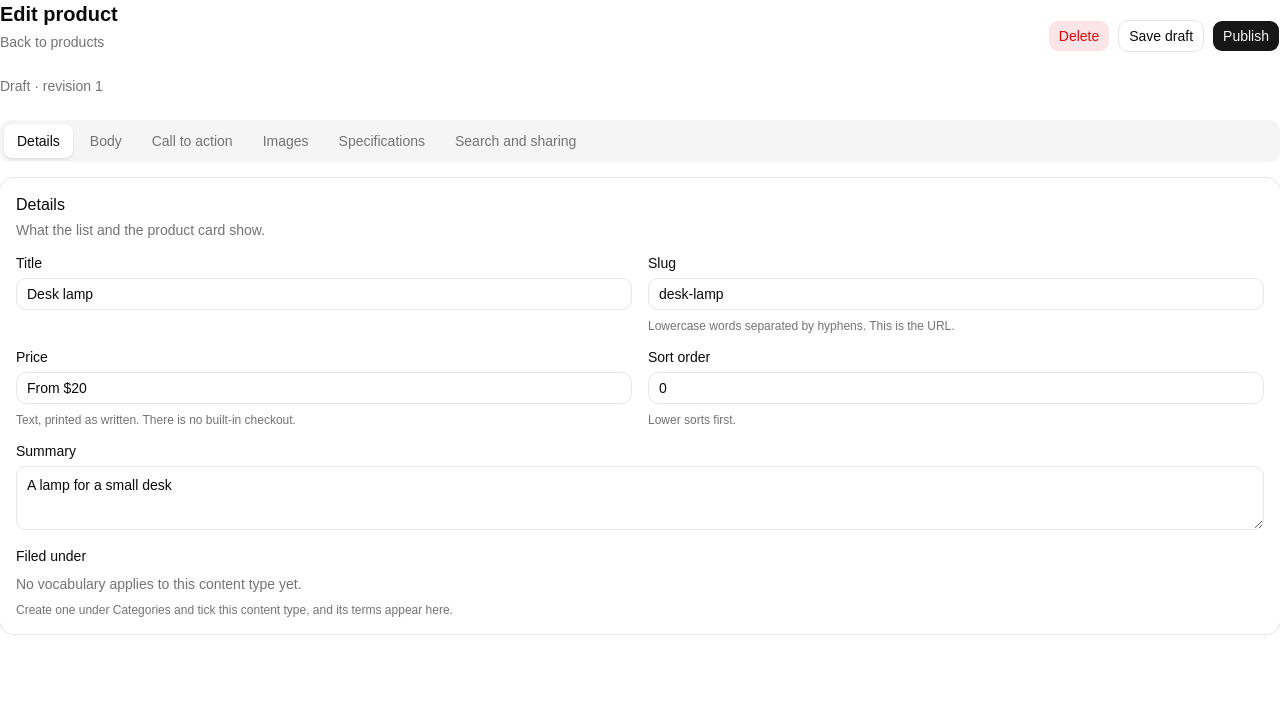
Scenario: choosing media › adds to the gallery from the library rather than by typing an id
Click the tab "Images". click: (286, 141)
box: [250,124,322,158]
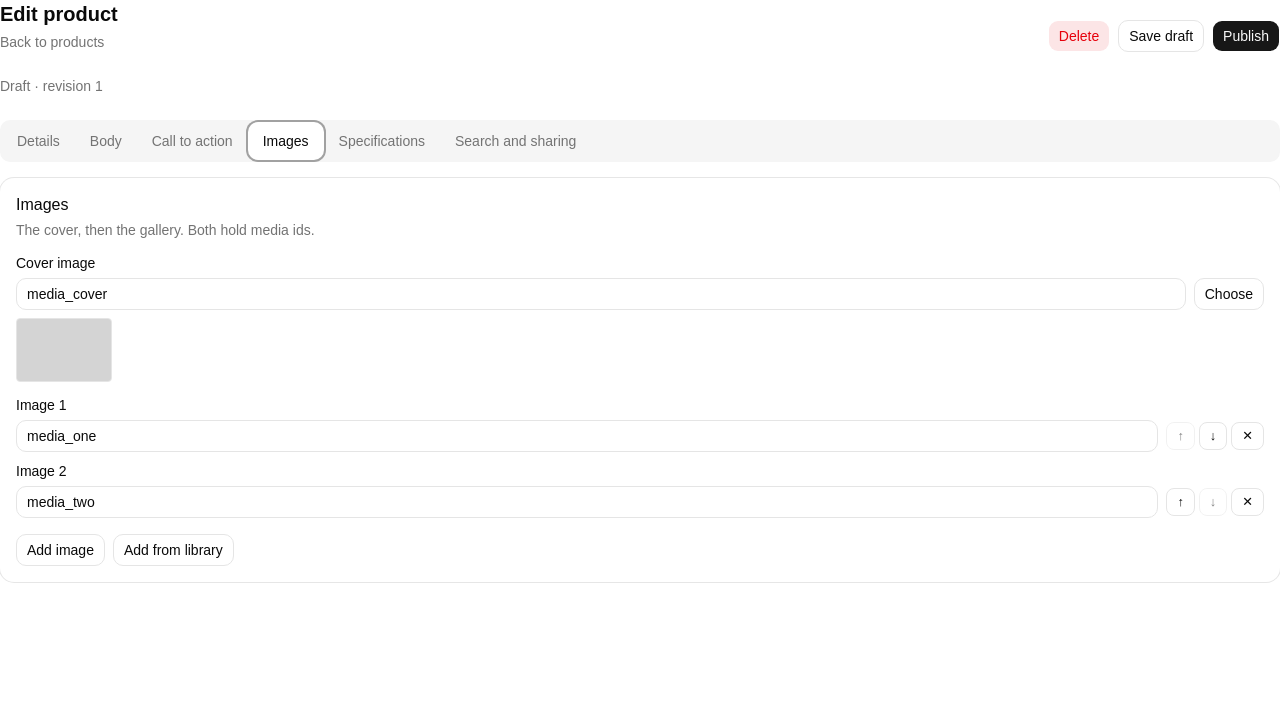
Click the button "Add from library". click: (173, 550)
box: [113,534,234,566]
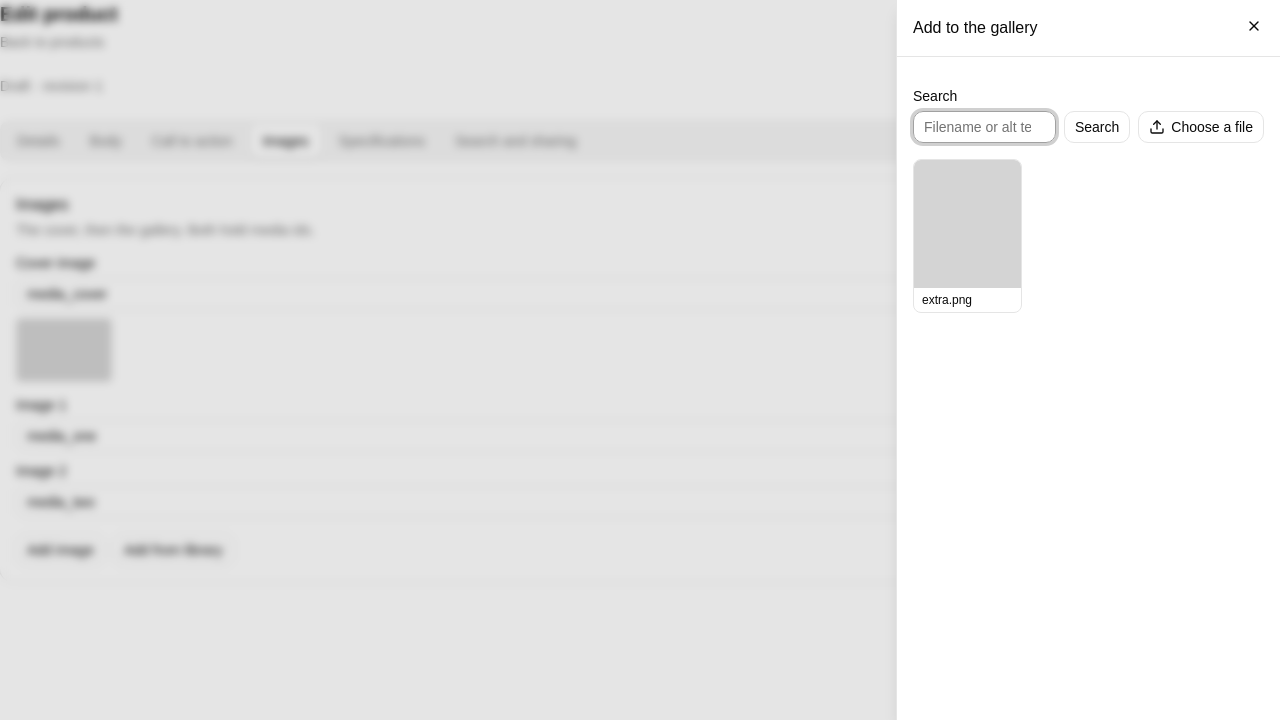
Click the button "extra.png". click: (968, 236)
box: [913,159,1022,313]
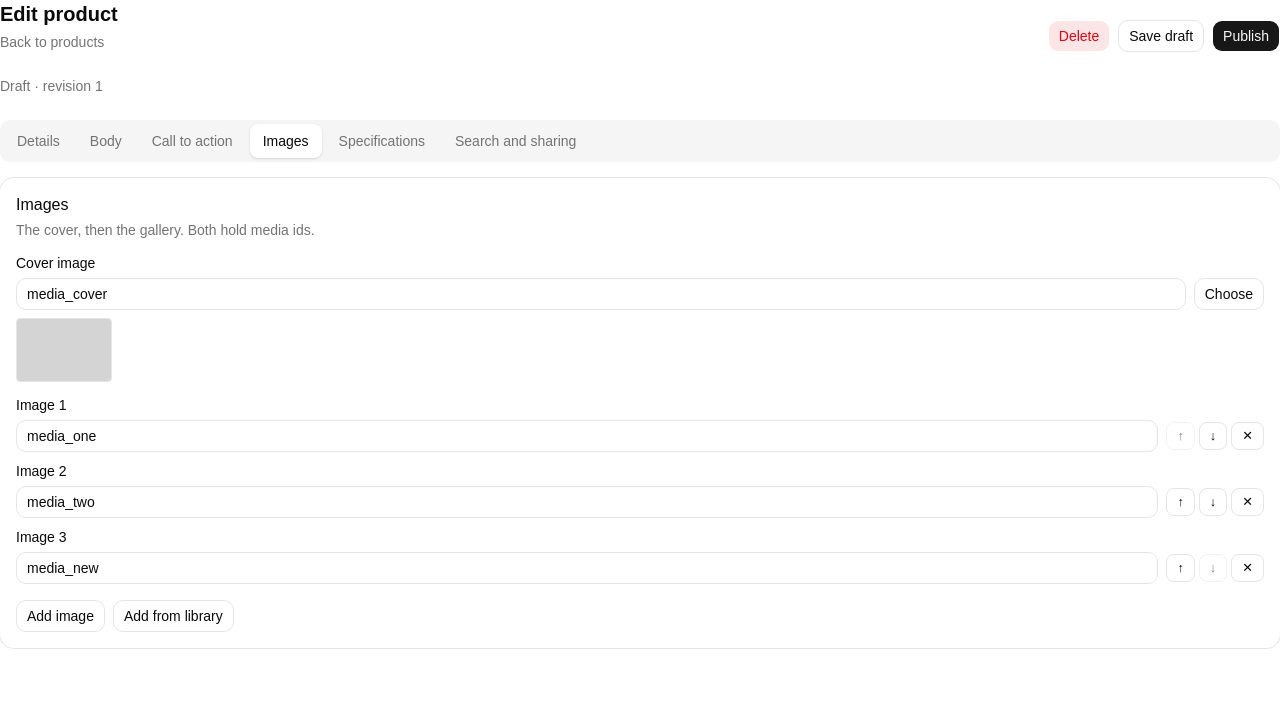
Expected: the field labelled "Image 3" holds "media_new", [16,552,1158,584]
